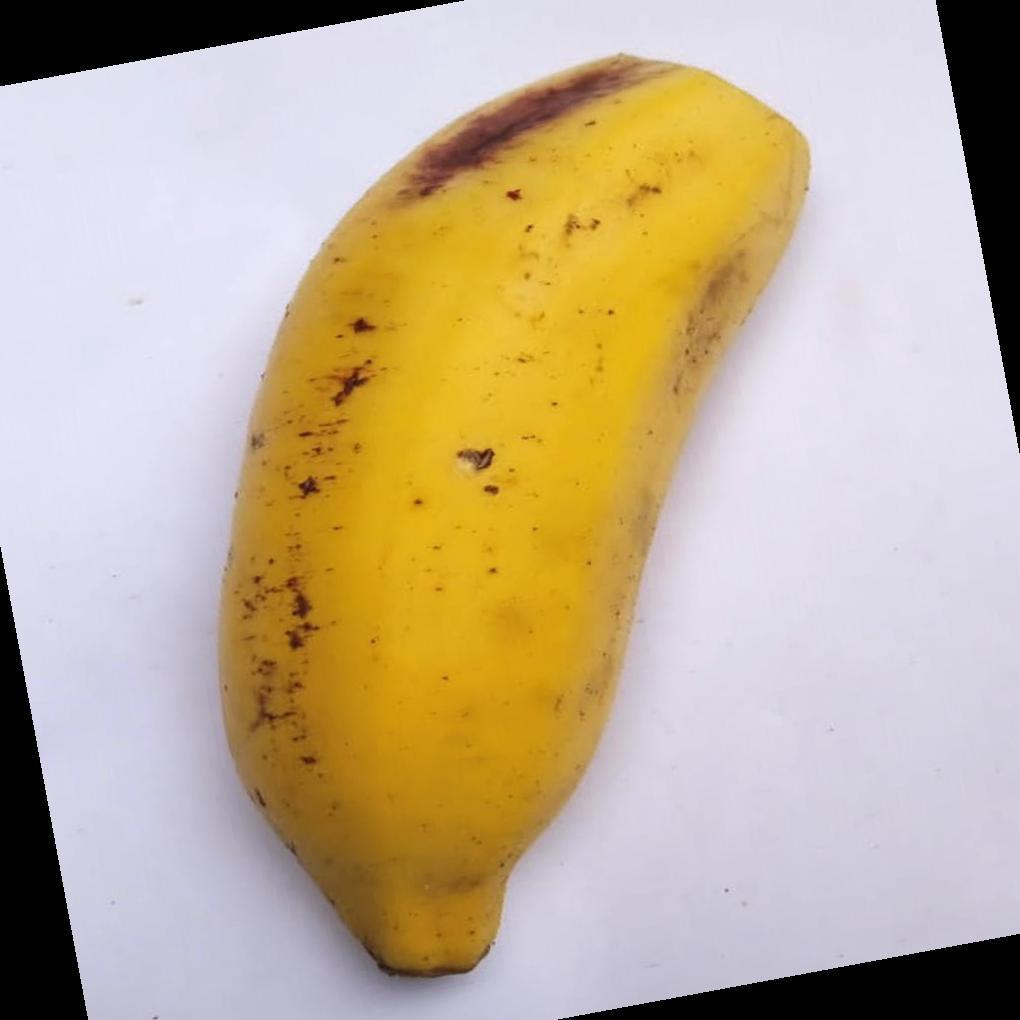Banana Ripe: (199, 54, 810, 1003)
